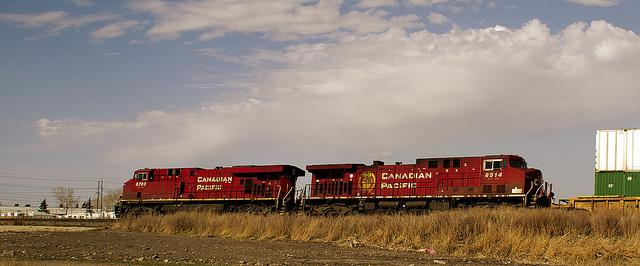Train: (112, 153, 566, 214)
